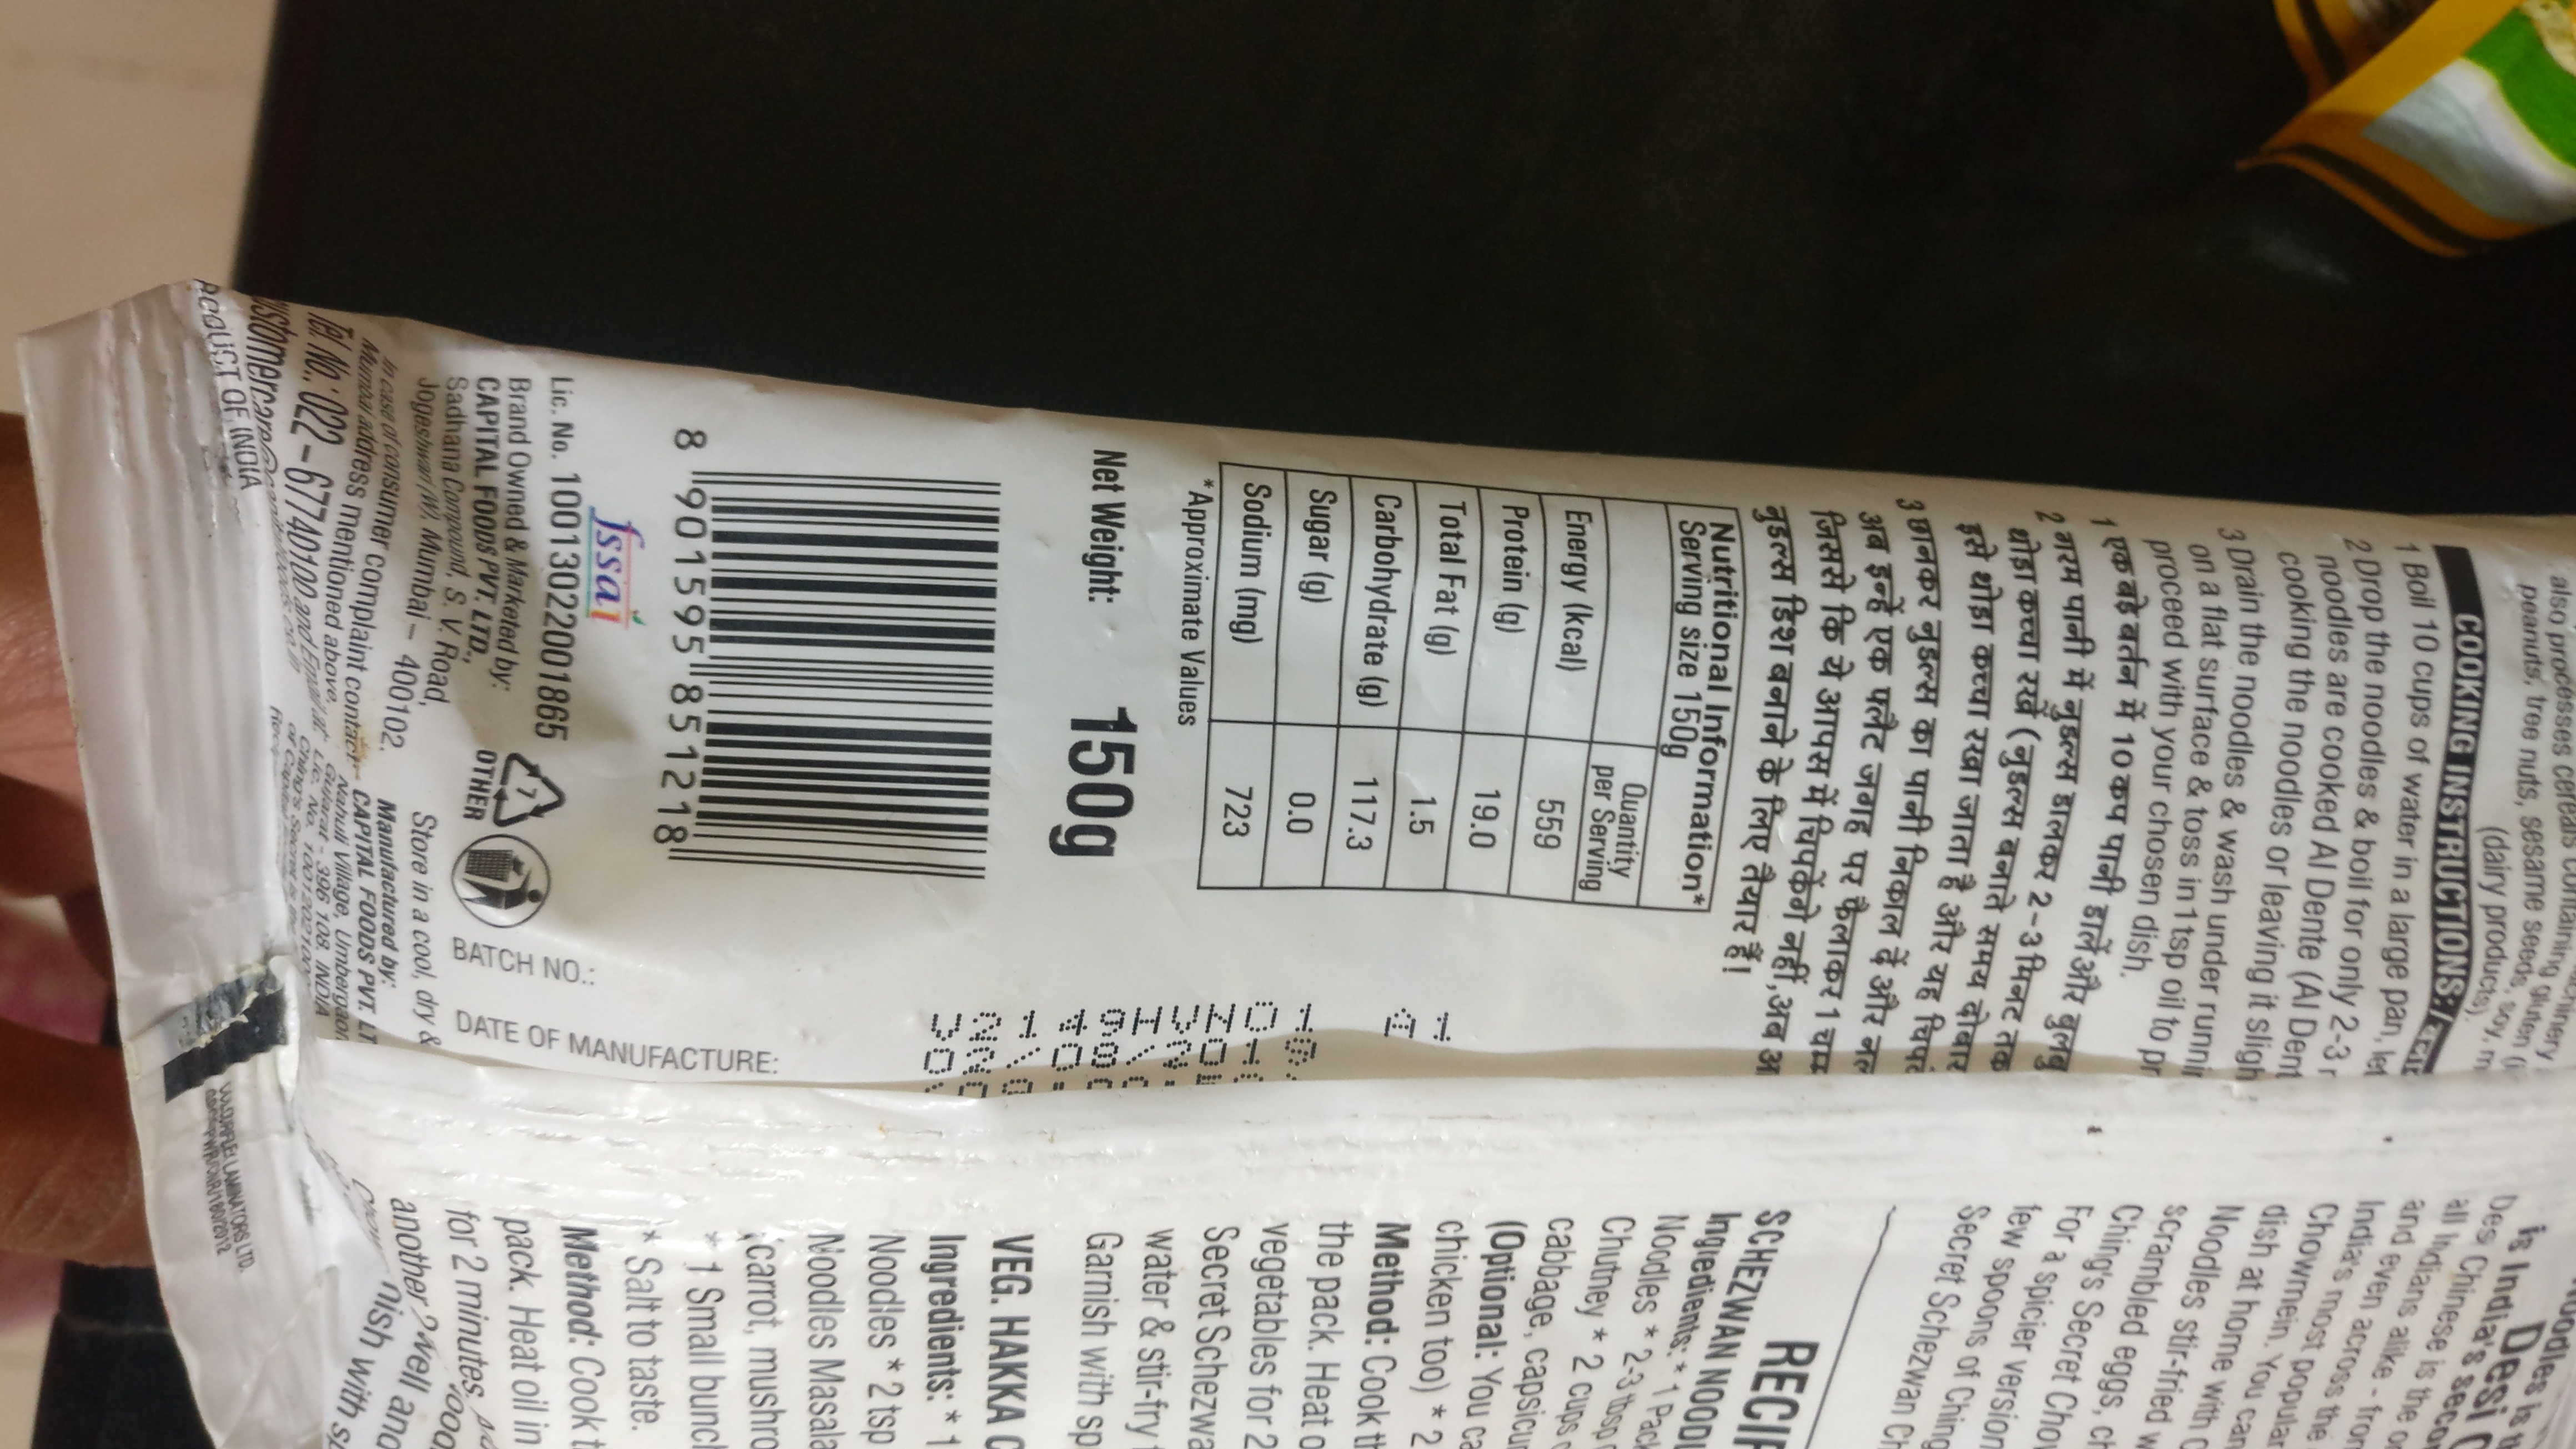barcode: (649, 387, 1010, 902)
